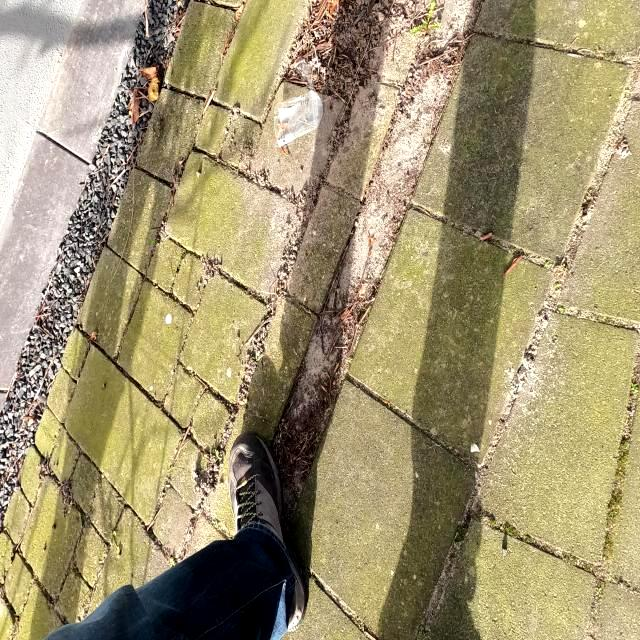Coffee Cup: (276, 92, 324, 138)
